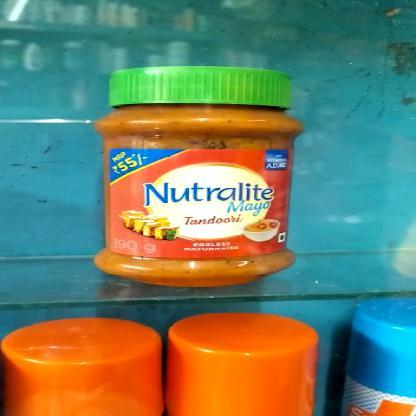Nutralite TANDOORI MAYO 300g-275g-25g-: (93, 66, 302, 286)
